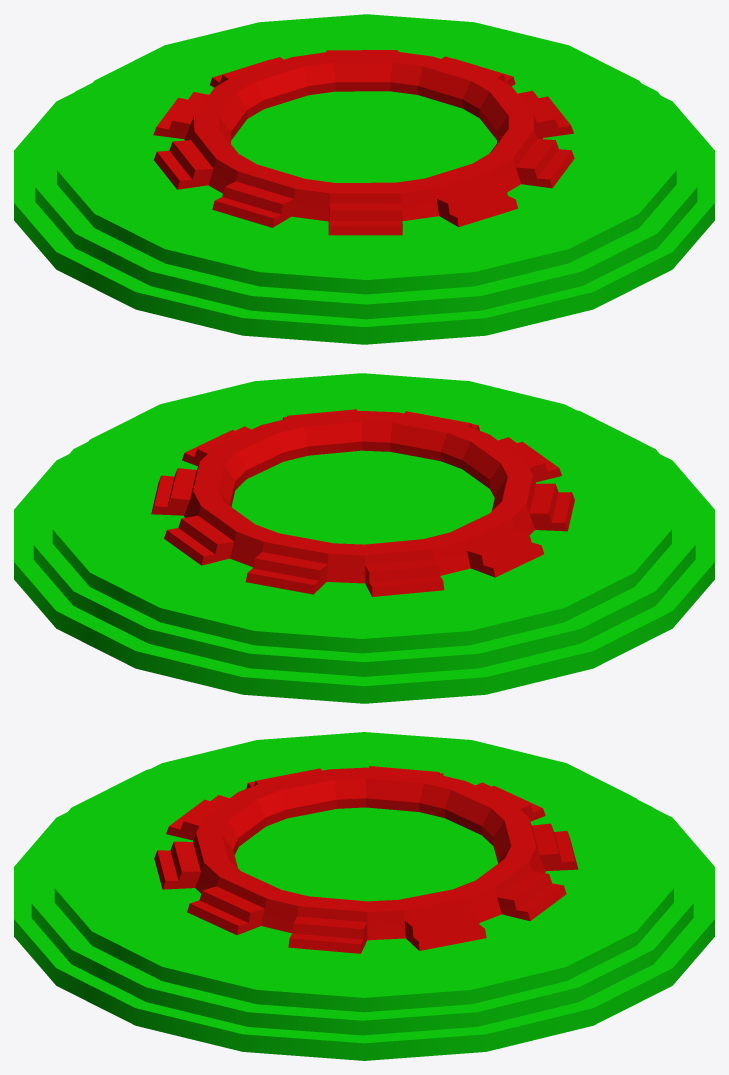
The model's file is RoundTemple.fbx.
3 renders of one model, top to bottom at view 1: azimuth 30°, elevation 25°; view 2: azimuth 150°, elevation 25°; view 3: azimuth 270°, elevation 25°, orthographic.
Parts seen in each view (by area): view 1: Roof_001; view 2: Roof_001; view 3: Roof_001.
Part boxes in pixels (x1,y1,x2,y2): Roof_001: (14,14,714,344); Roof_001: (14,373,714,703); Roof_001: (14,732,714,1060).
Bounding box in the file's own units: 3470 × 381 × 3417.
